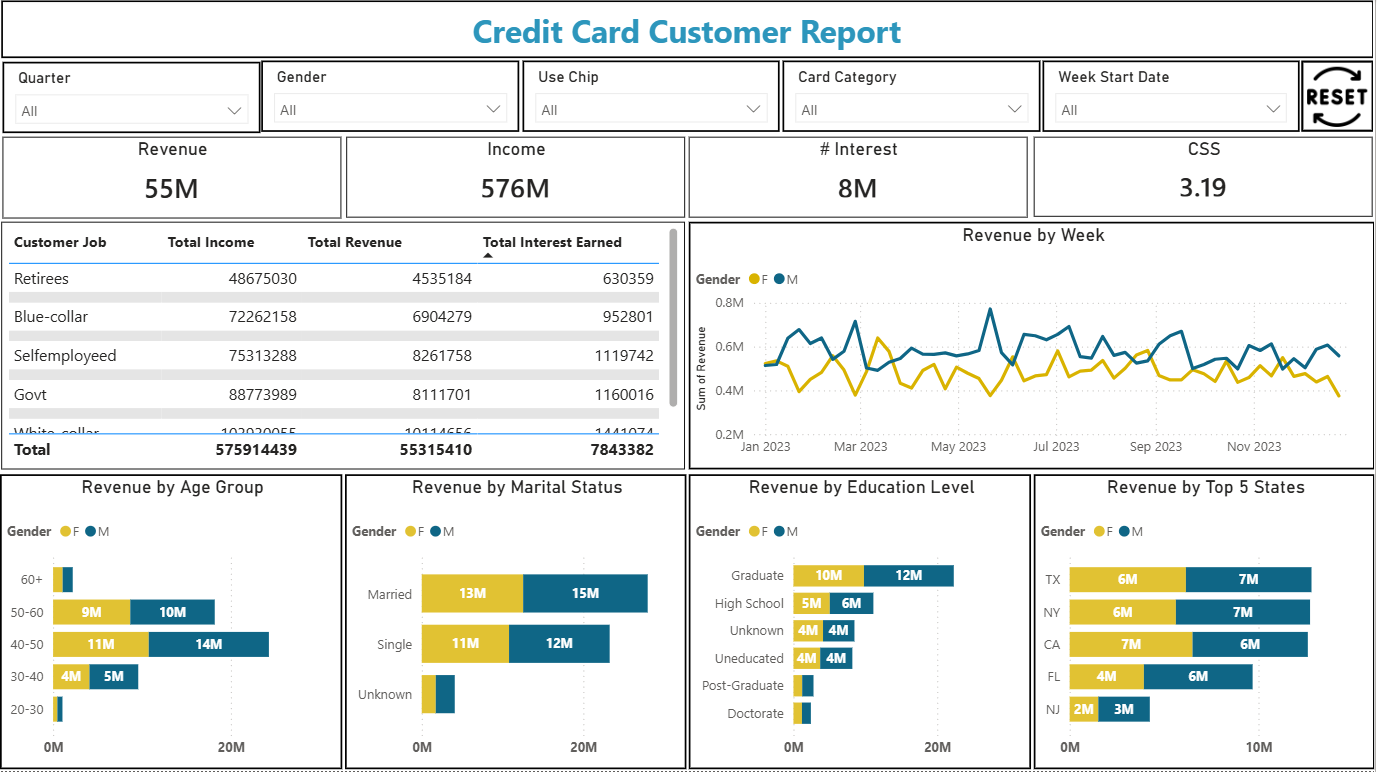

Layout of this report page (visuals, bound fields, positions):
{"tool":"powerbi","page":{"name":"CC Customer","canvas":[1280,720],"ordinal":1},"visuals":[{"type":"shape","box":[1210.3,58.3,67.4,66.3],"z":0,"group":"g1"},{"type":"tableEx","fields":{"Values":["cust_detail.Customer_Job","Sum(cust_detail.Income)","Sum(cc_detail.Revenue)","Sum(cc_detail.Interest_Earned)"]},"box":[1.2,208.4,636,230],"z":0},{"type":"shape","box":[1.1,2.1,1276.4,53.6],"z":1000},{"type":"image","box":[1215.3,64.5,57.4,56],"z":1000,"group":"g1"},{"type":"cardVisual","title":"Revenue","fields":{"Data":["Sum(cc_detail.Revenue)"]},"box":[2.3,128.8,315,76],"z":2000},{"type":"cardVisual","title":"Income","fields":{"Data":["Sum(cust_detail.Income)"]},"box":[322.1,128.8,315.1,75.6],"z":3000},{"type":"cardVisual","title":"# Interest","fields":{"Data":["Sum(cc_detail.Interest_Earned)"]},"box":[640.7,128.8,315.1,75.6],"z":4000},{"type":"cardVisual","title":"CSS","fields":{"Data":["Avg(cust_detail.Cust_Satisfaction_Score)"]},"box":[962,129.3,315.4,74.6],"z":5000},{"type":"lineChart","title":"Revenue by Week","fields":{"Y":["Sum(cc_detail.Revenue)"],"Category":["cc_detail.Week_Start_Date.Variation.Date Hierarchy.Year","cc_detail.Week_Start_Date.Variation.Date Hierarchy.Month","cc_detail.Week_Start_Date.Variation.Date Hierarchy.Day"],"Series":["cust_detail.Gender"]},"box":[640.7,208.4,638.4,230],"z":6000},{"type":"barChart","title":"Revenue by Age Group","fields":{"Y":["Sum(cc_detail.Revenue)"],"Category":["cust_detail.AgeGroup"],"Series":["cust_detail.Gender"]},"box":[0,443,318,274.4],"z":7000},{"type":"barChart","title":"Revenue by Education Level","fields":{"Y":["Sum(cc_detail.Revenue)"],"Category":["cust_detail.Education_Level"],"Series":["cust_detail.Gender"]},"box":[640.7,443,318.6,274.4],"z":8000},{"type":"barChart","title":"Revenue by Top 5 States","fields":{"Y":["Sum(cc_detail.Revenue)"],"Category":["cust_detail.state_cd"],"Series":["cust_detail.Gender"]},"box":[961.6,443,317.4,274.4],"z":9000},{"type":"barChart","title":"Revenue by Marital Status","fields":{"Y":["Sum(cc_detail.Revenue)"],"Category":["cust_detail.Marital_Status"],"Series":["cust_detail.Gender"]},"box":[320.9,443,317.4,274.4],"z":10000},{"type":"slicer","fields":{"Values":["cc_detail.Week_Start_Date"]},"box":[969.9,58.7,239,66.3],"z":11000},{"type":"slicer","fields":{"Values":["cust_detail.Gender"]},"box":[243.6,58.7,240.3,66.3],"z":12000},{"type":"slicer","fields":{"Values":["cc_detail.Qtr"]},"box":[2.1,58.9,240,66.2],"z":13000},{"type":"slicer","fields":{"Values":["cc_detail.Card_Category"]},"box":[727.4,58.7,240.3,66.3],"z":14000},{"type":"slicer","fields":{"Values":["cc_detail.Use_Chip"]},"box":[486,58.7,239.2,66.3],"z":15000},{"type":"group","id":"g1","title":"Group 2","box":[1210.3,58.3,67,67],"z":16000}]}

Visuals, with their boxes in screenshot pixels (x1, y1, x2, y2), scaled from the page's 1280x720 canvas onto the 1377x772 screenshot:
shape: [left=1302, top=63, right=1375, bottom=134]
tableEx - cust_detail.Customer_Job x Sum(cust_detail.Income): [left=1, top=223, right=685, bottom=470]
shape: [left=1, top=2, right=1374, bottom=60]
image: [left=1307, top=69, right=1369, bottom=129]
"Revenue" cardVisual: [left=2, top=138, right=341, bottom=220]
"Income" cardVisual: [left=347, top=138, right=685, bottom=219]
"# Interest" cardVisual: [left=689, top=138, right=1028, bottom=219]
"CSS" cardVisual: [left=1035, top=139, right=1374, bottom=219]
"Revenue by Week" lineChart: [left=689, top=223, right=1376, bottom=470]
"Revenue by Age Group" barChart: [left=0, top=475, right=342, bottom=769]
"Revenue by Education Level" barChart: [left=689, top=475, right=1032, bottom=769]
"Revenue by Top 5 States" barChart: [left=1034, top=475, right=1376, bottom=769]
"Revenue by Marital Status" barChart: [left=345, top=475, right=687, bottom=769]
slicer - cc_detail.Week_Start_Date: [left=1043, top=63, right=1301, bottom=134]
slicer - cust_detail.Gender: [left=262, top=63, right=521, bottom=134]
slicer - cc_detail.Qtr: [left=2, top=63, right=260, bottom=134]
slicer - cc_detail.Card_Category: [left=783, top=63, right=1041, bottom=134]
slicer - cc_detail.Use_Chip: [left=523, top=63, right=780, bottom=134]
"Group 2" group: [left=1302, top=63, right=1374, bottom=134]
